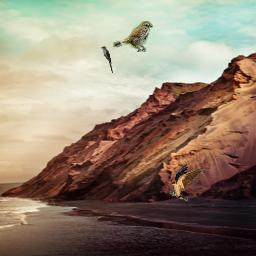Cuckoo: (101, 46, 113, 73)
Sparrow: (113, 21, 153, 52)
Swallow: (169, 164, 203, 204)
